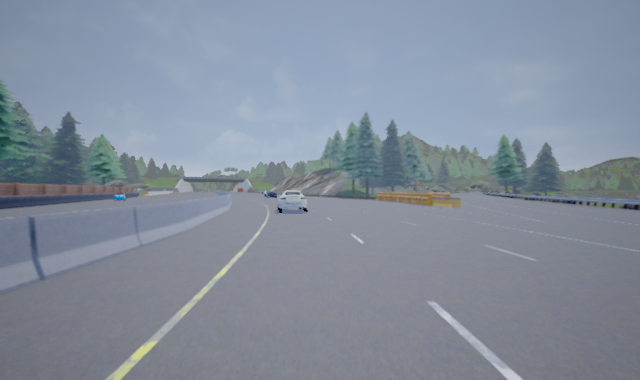vehicle: (276, 189, 308, 213), (114, 192, 126, 201), (265, 189, 276, 198)
